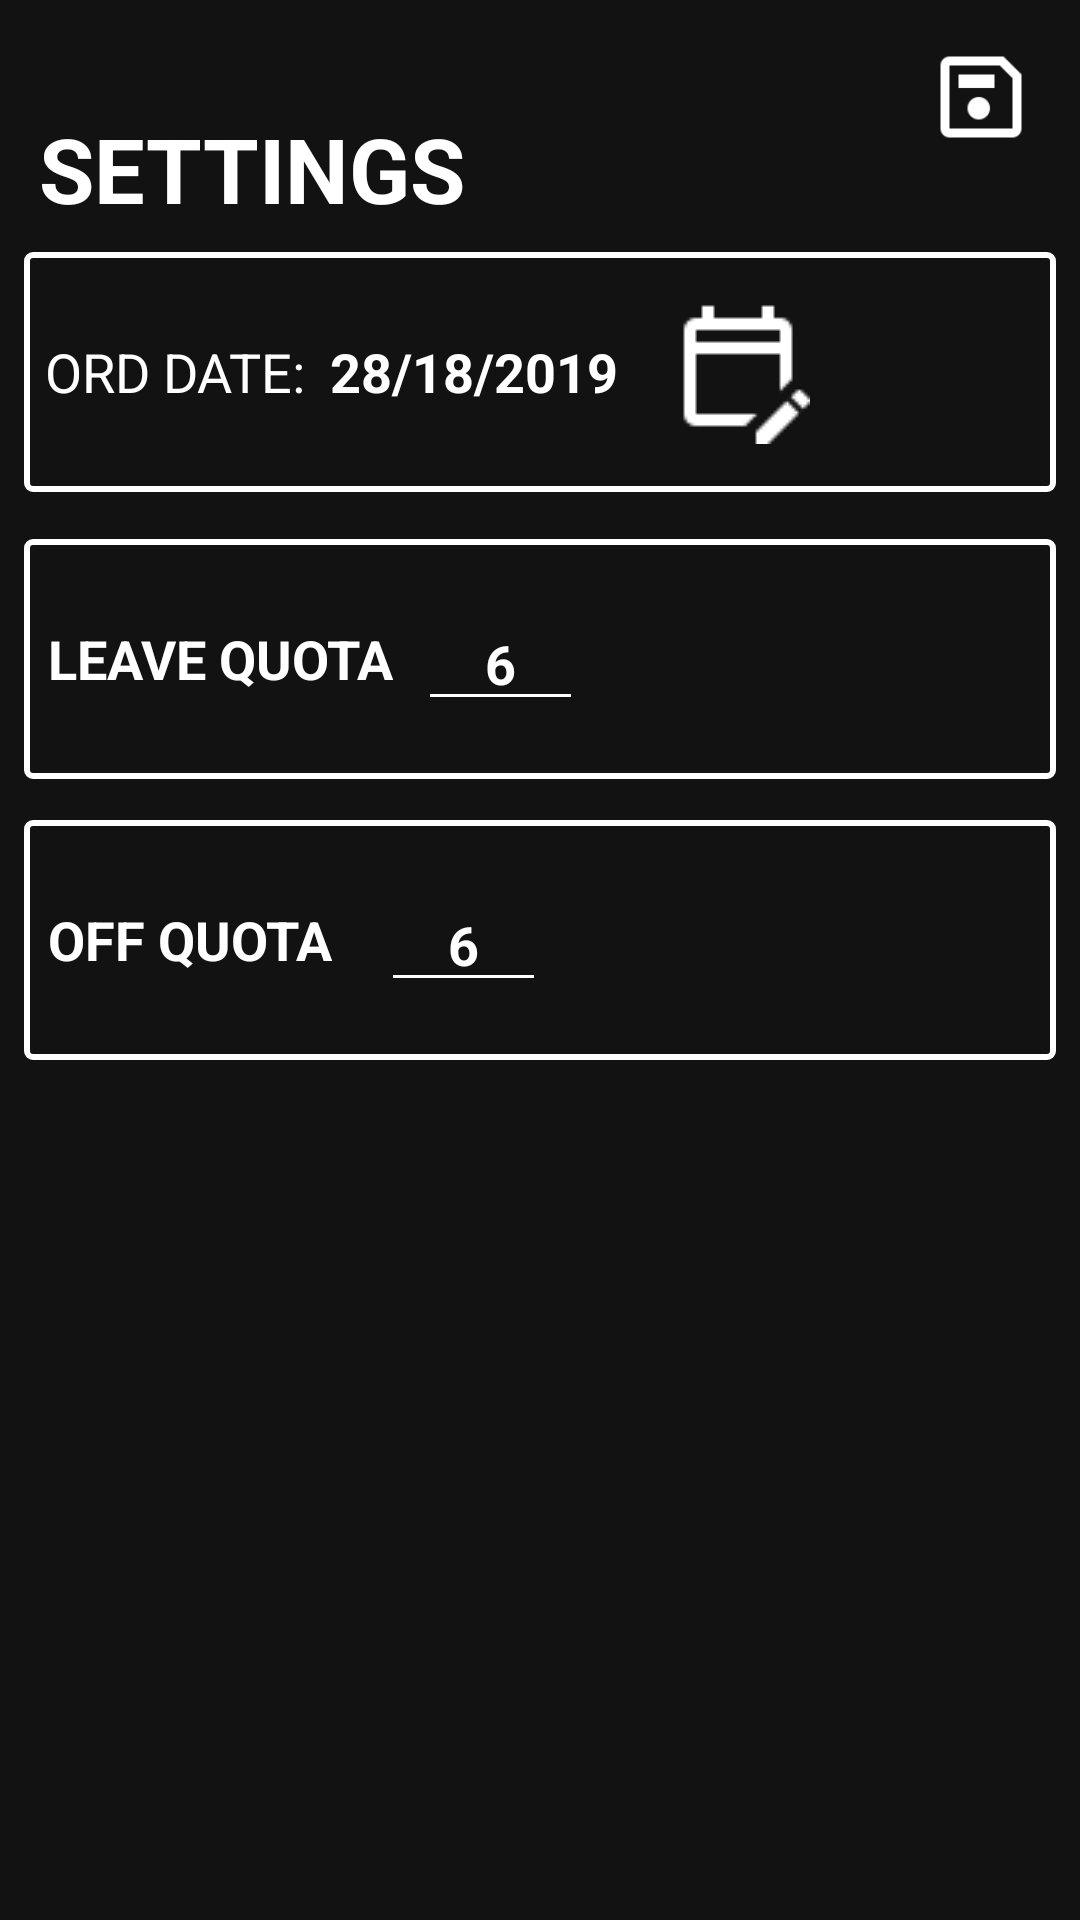

Screen size 1080 × 1920. Icon name, then its center in pixels as [x,y]:
calendarwhite: [746,374]
savewhite: [981,97]
